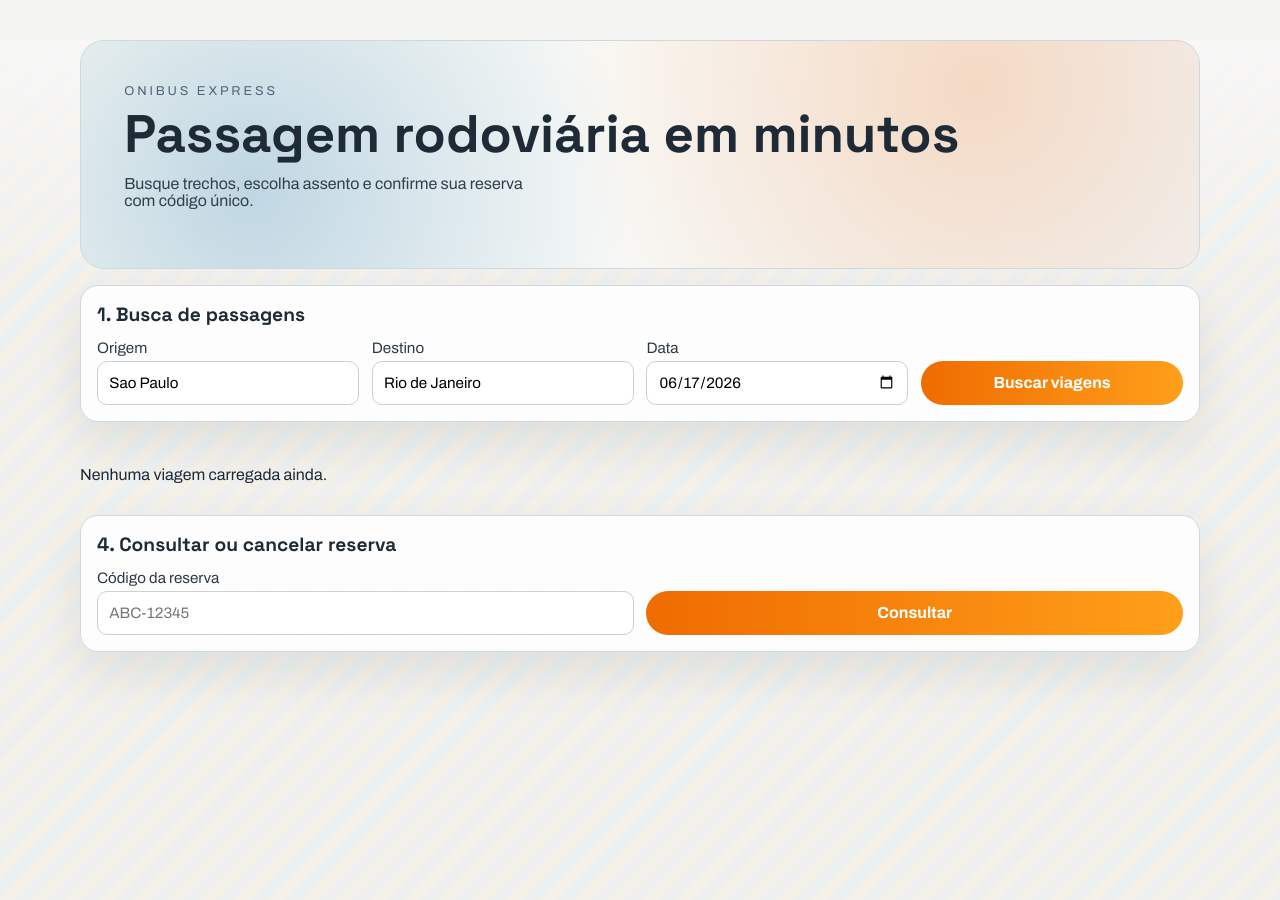
Test case: App - comportamento do usuario › deve permitir buscar viagens e exibir resultado na tela
Type "2026-06-18" into the date field labelled "Data" at [777, 382], box top-left (646, 360), bottom-right (908, 404)
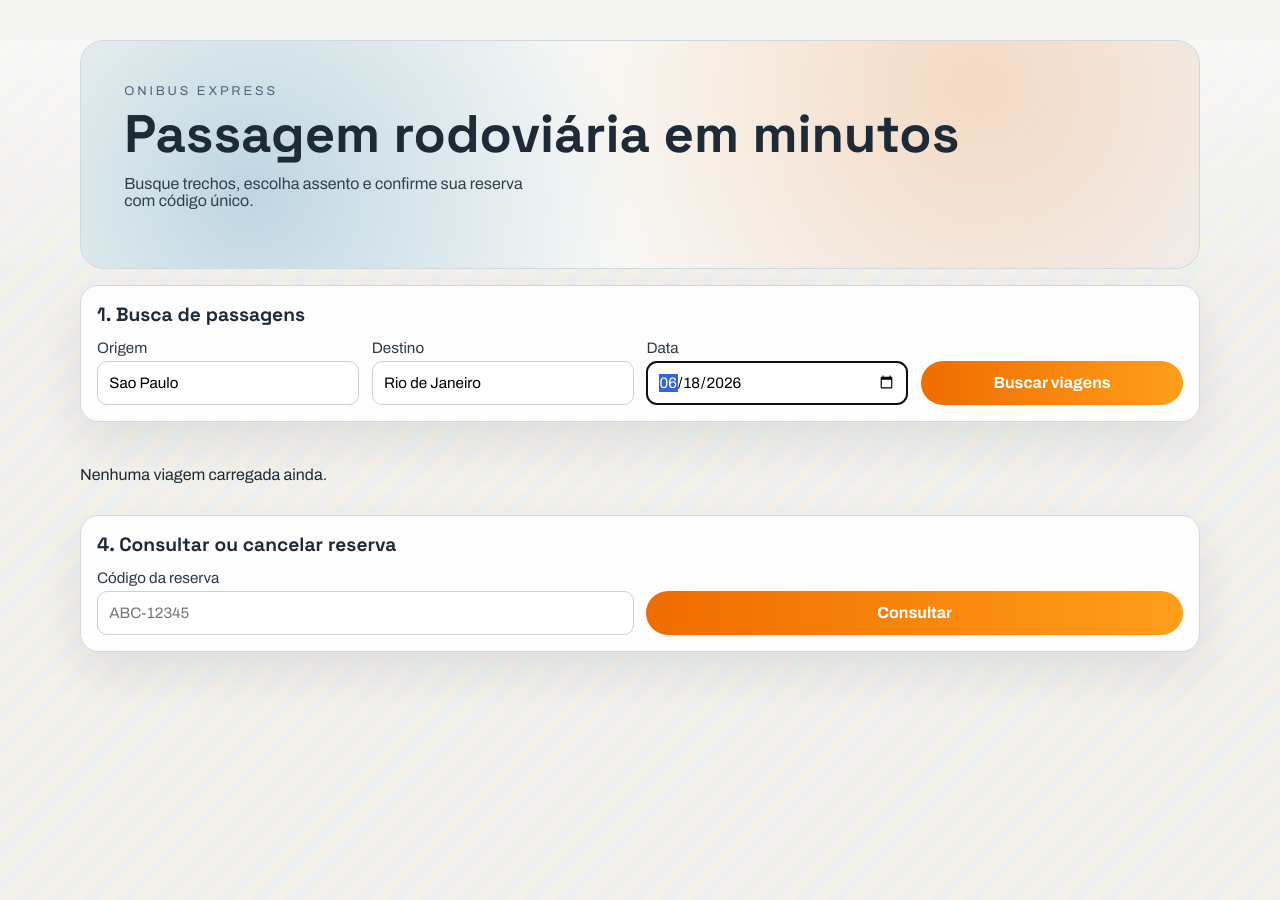
Click the button "Buscar viagens" at [1052, 382], box top-left (921, 360), bottom-right (1183, 404)
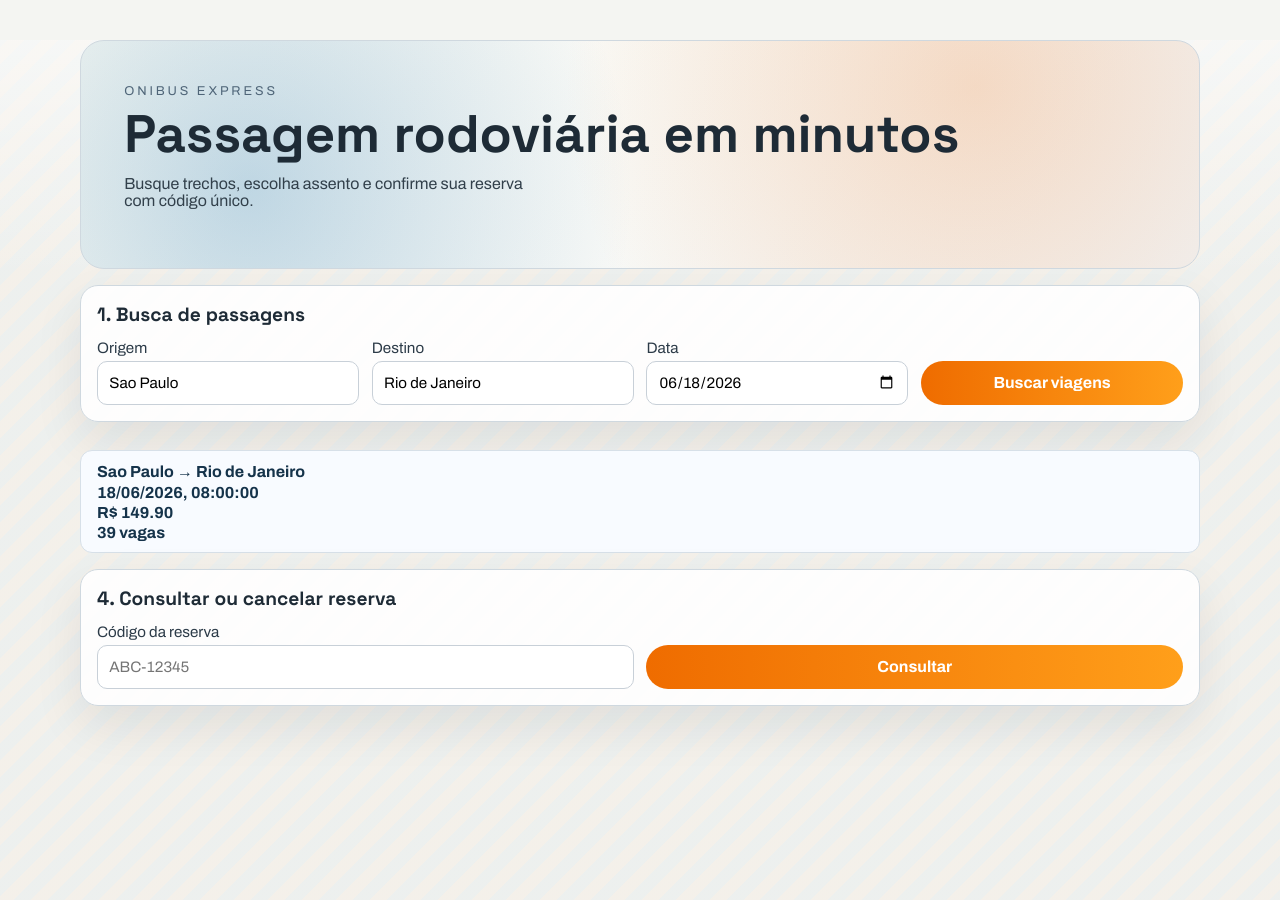
Now the text "Sao Paulo → Rio de Janeiro" is shown, box top-left (97, 462), bottom-right (305, 480)
